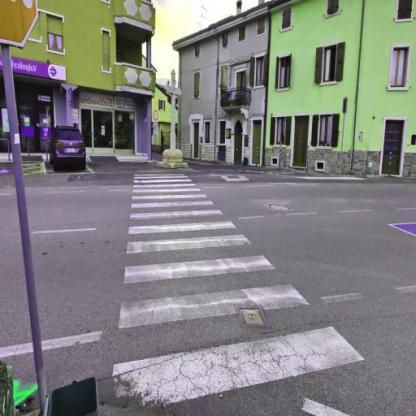crosswalk: (120, 232, 277, 288), (128, 198, 224, 223)
